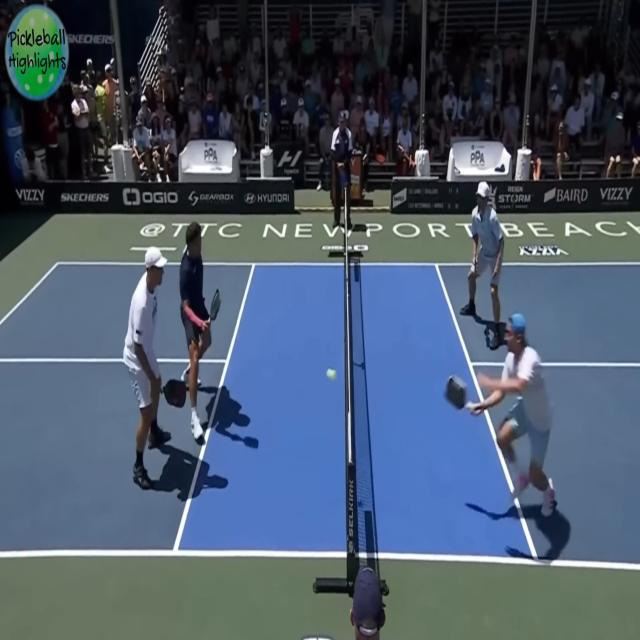ball: (324, 362, 338, 388)
